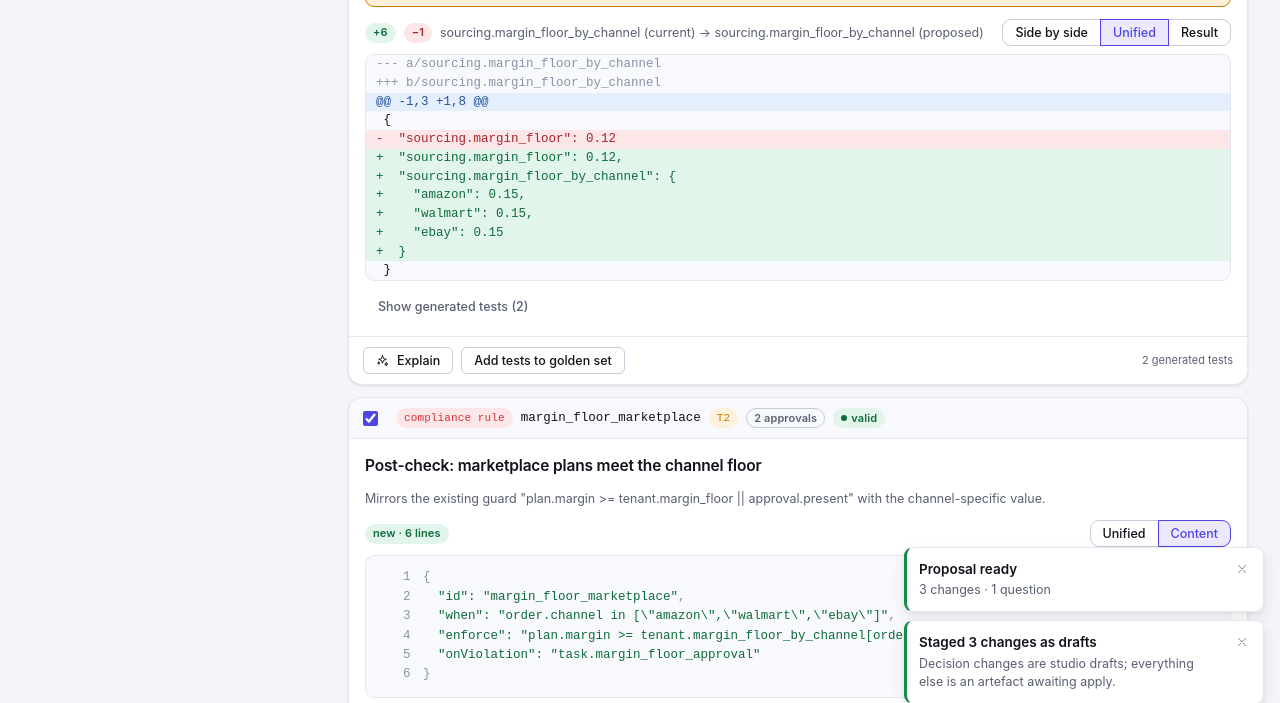
Test: Copilot page › explains a change and adds its tests to the golden set
This screenshot has width=1280, height=703.
(page scrolled)
Click the button "Explain" at [408, 361], box [363,347,453,374]
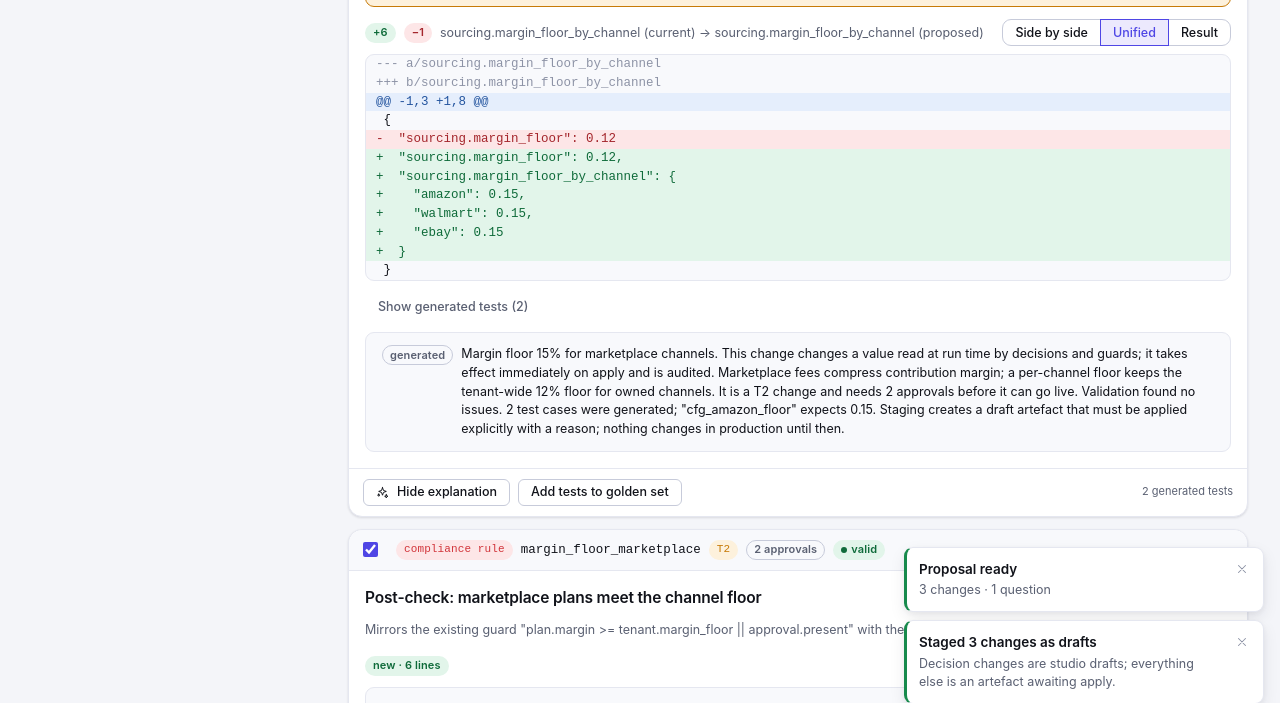
Expected: the text "This change changes a value read at run time" is shown, [461,346,1195,436]
Click the button "Add tests to golden set" at [600, 492], box [518,479,682,506]
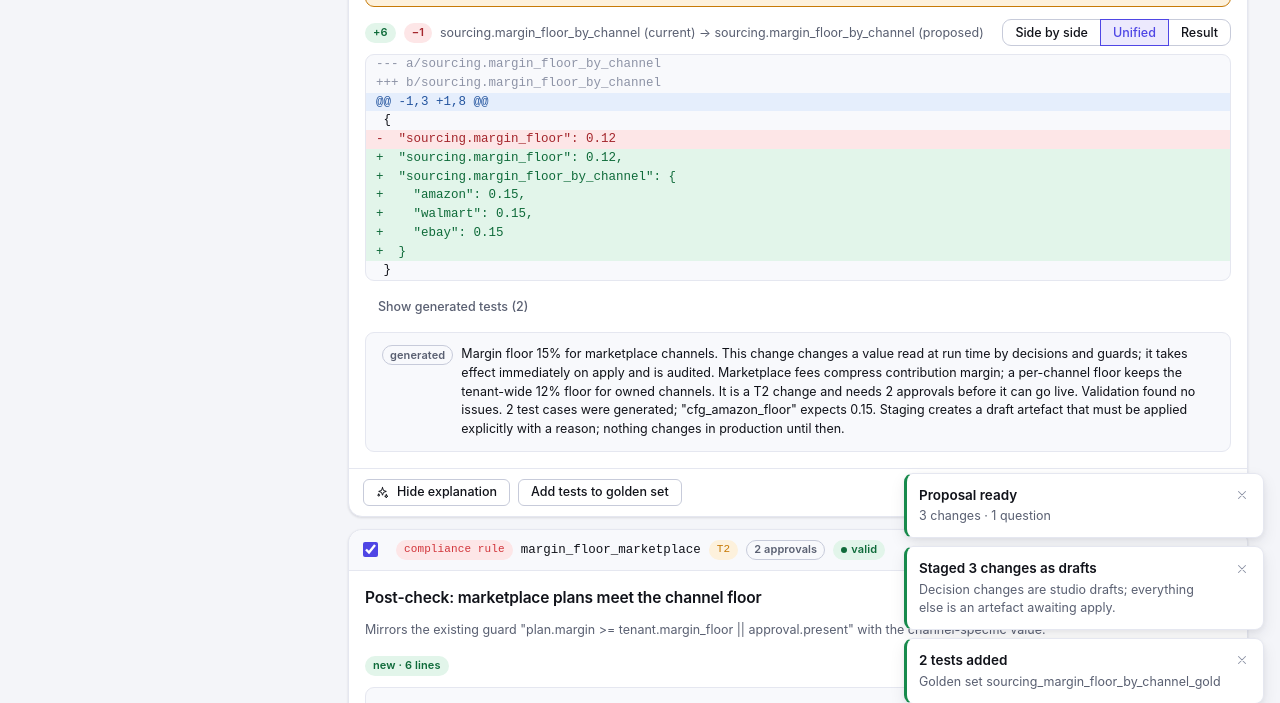
Expected: the text "2 tests added" is shown, [919,652,1007,668]
